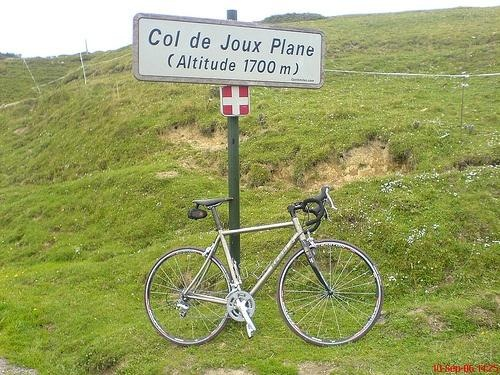bicycle: (144, 186, 385, 348)
